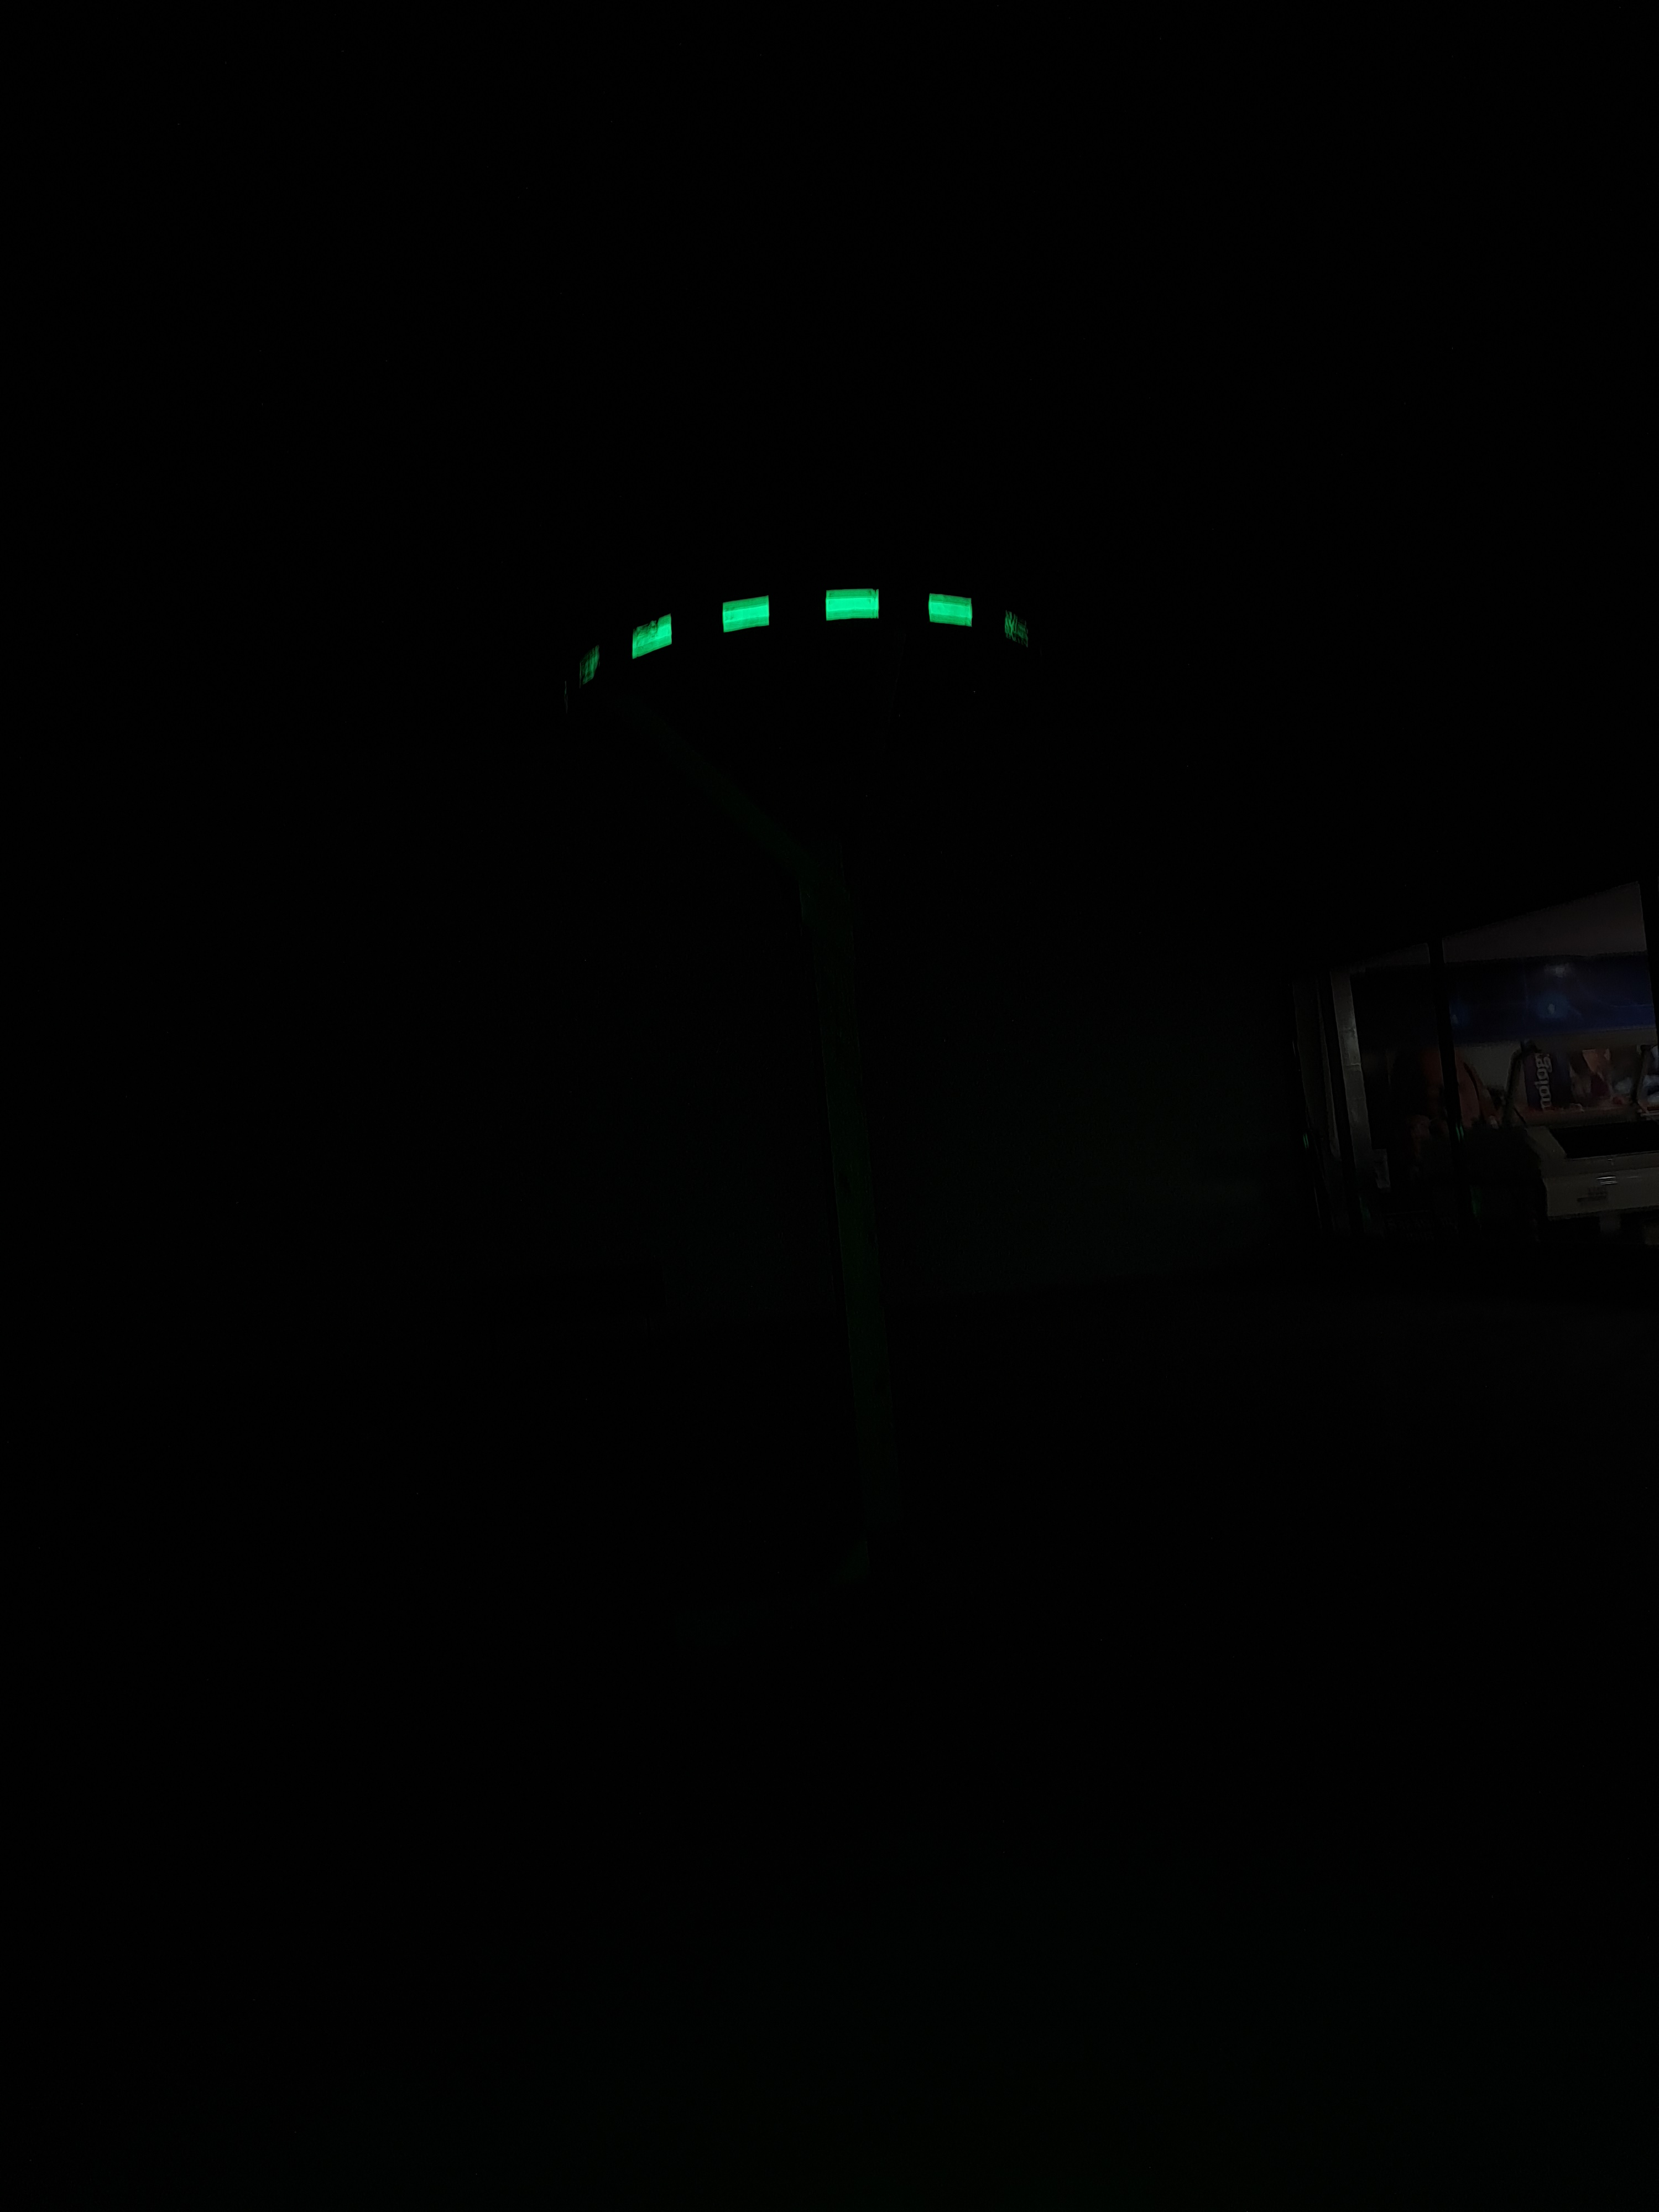hoop: (504, 577, 1044, 679)
